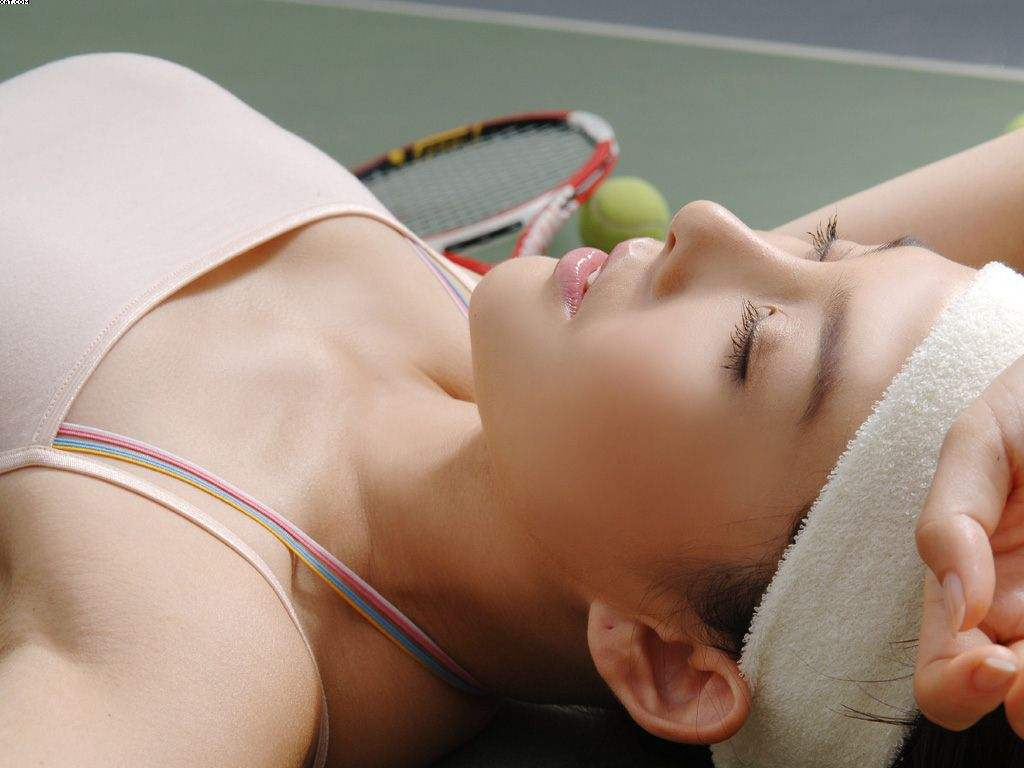person: (164, 168, 1024, 766)
